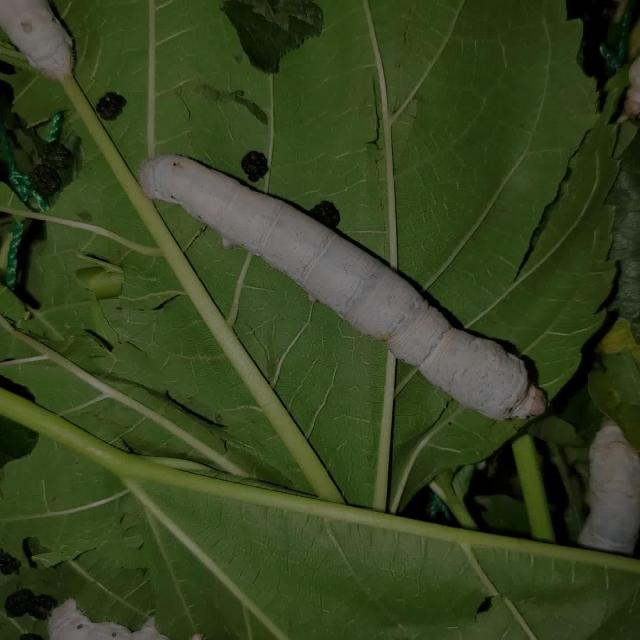Healthy: (118, 126, 550, 457)
